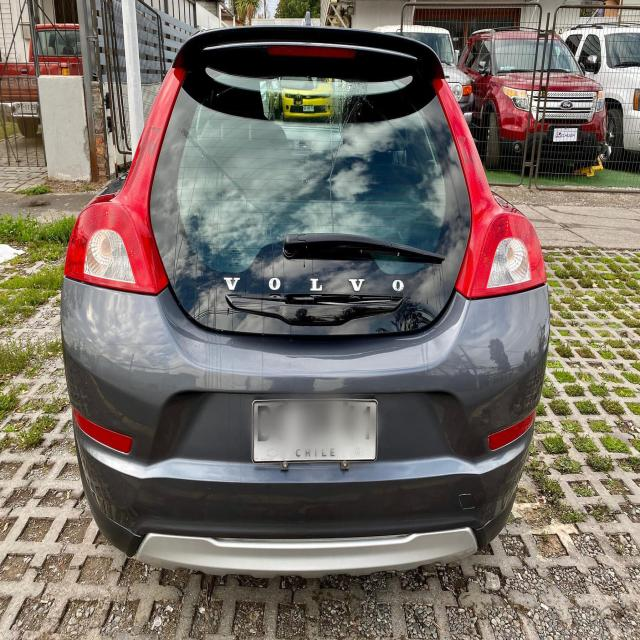patente: (251, 397, 378, 466), (552, 125, 578, 143)
